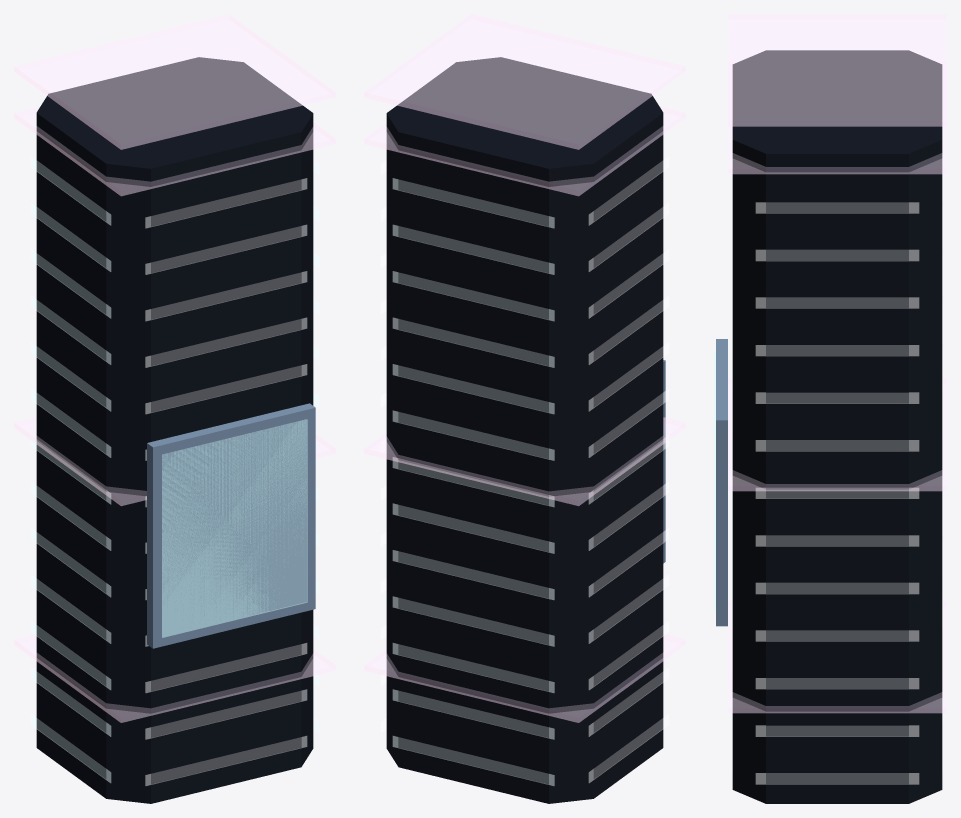
Rendered from skyscraper_tower_b.glb.
3 renders of one model, left to right at view 1: azimuth 30°, elevation 25°; view 2: azimuth 150°, elevation 25°; view 3: azimuth 270°, elevation 25°, orthographic. The views are drawn at different scales.
Parts seen in each view (by area): view 1: TowerShellMat, WindowsMat; view 2: TowerShellMat, WindowsMat; view 3: TowerShellMat, WindowsMat.
Part boxes in pixels (x1,y1,x2,y2): TowerShellMat: (36,57,315,803); WindowsMat: (14,14,335,785); TowerShellMat: (386,57,665,803); WindowsMat: (364,14,685,785); TowerShellMat: (716,50,942,803); WindowsMat: (714,14,946,784).
Bounding box in the file's own units: 14.5 × 43.17 × 13.3.
